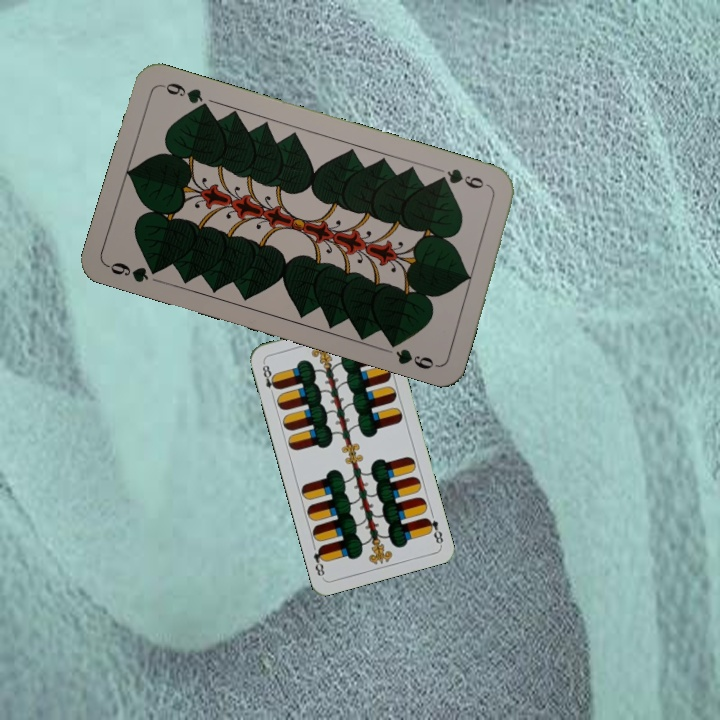E8: (258, 358, 281, 398), (421, 514, 446, 547)
G9: (433, 164, 494, 191), (104, 258, 165, 285)
